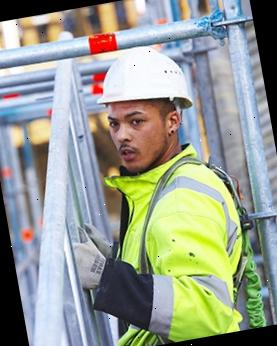helmet: (89, 42, 194, 123)
no_wear: (85, 151, 271, 346)
